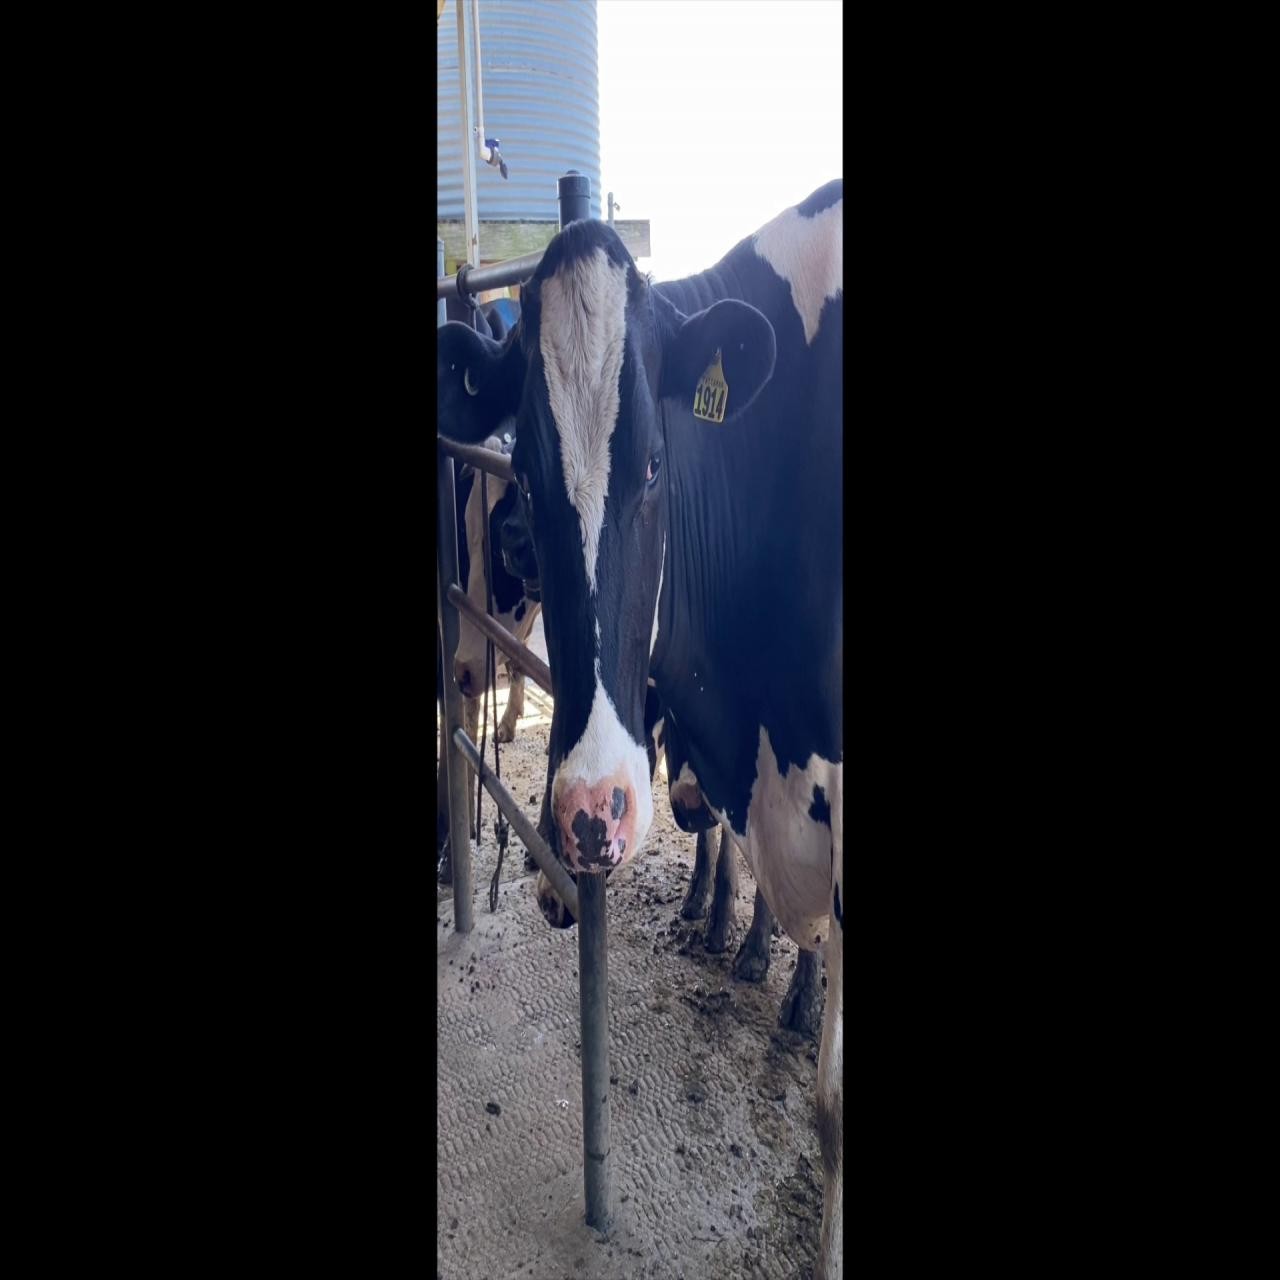Face: (515, 258, 665, 869)
